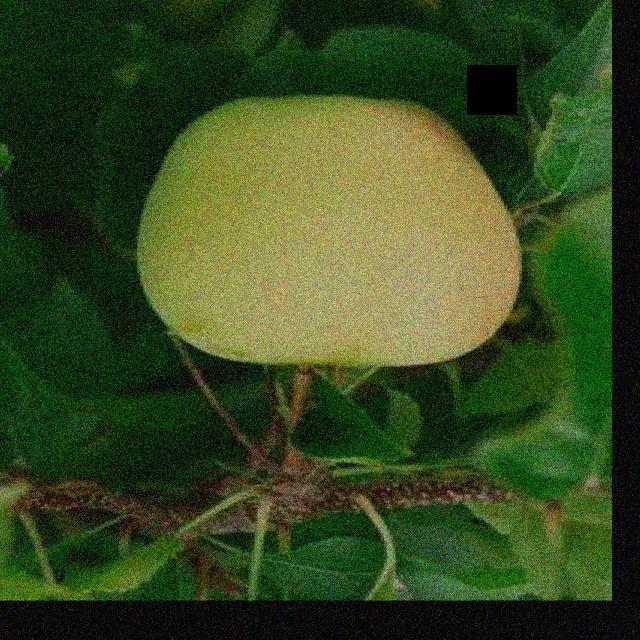green apple: (130, 93, 527, 370)
